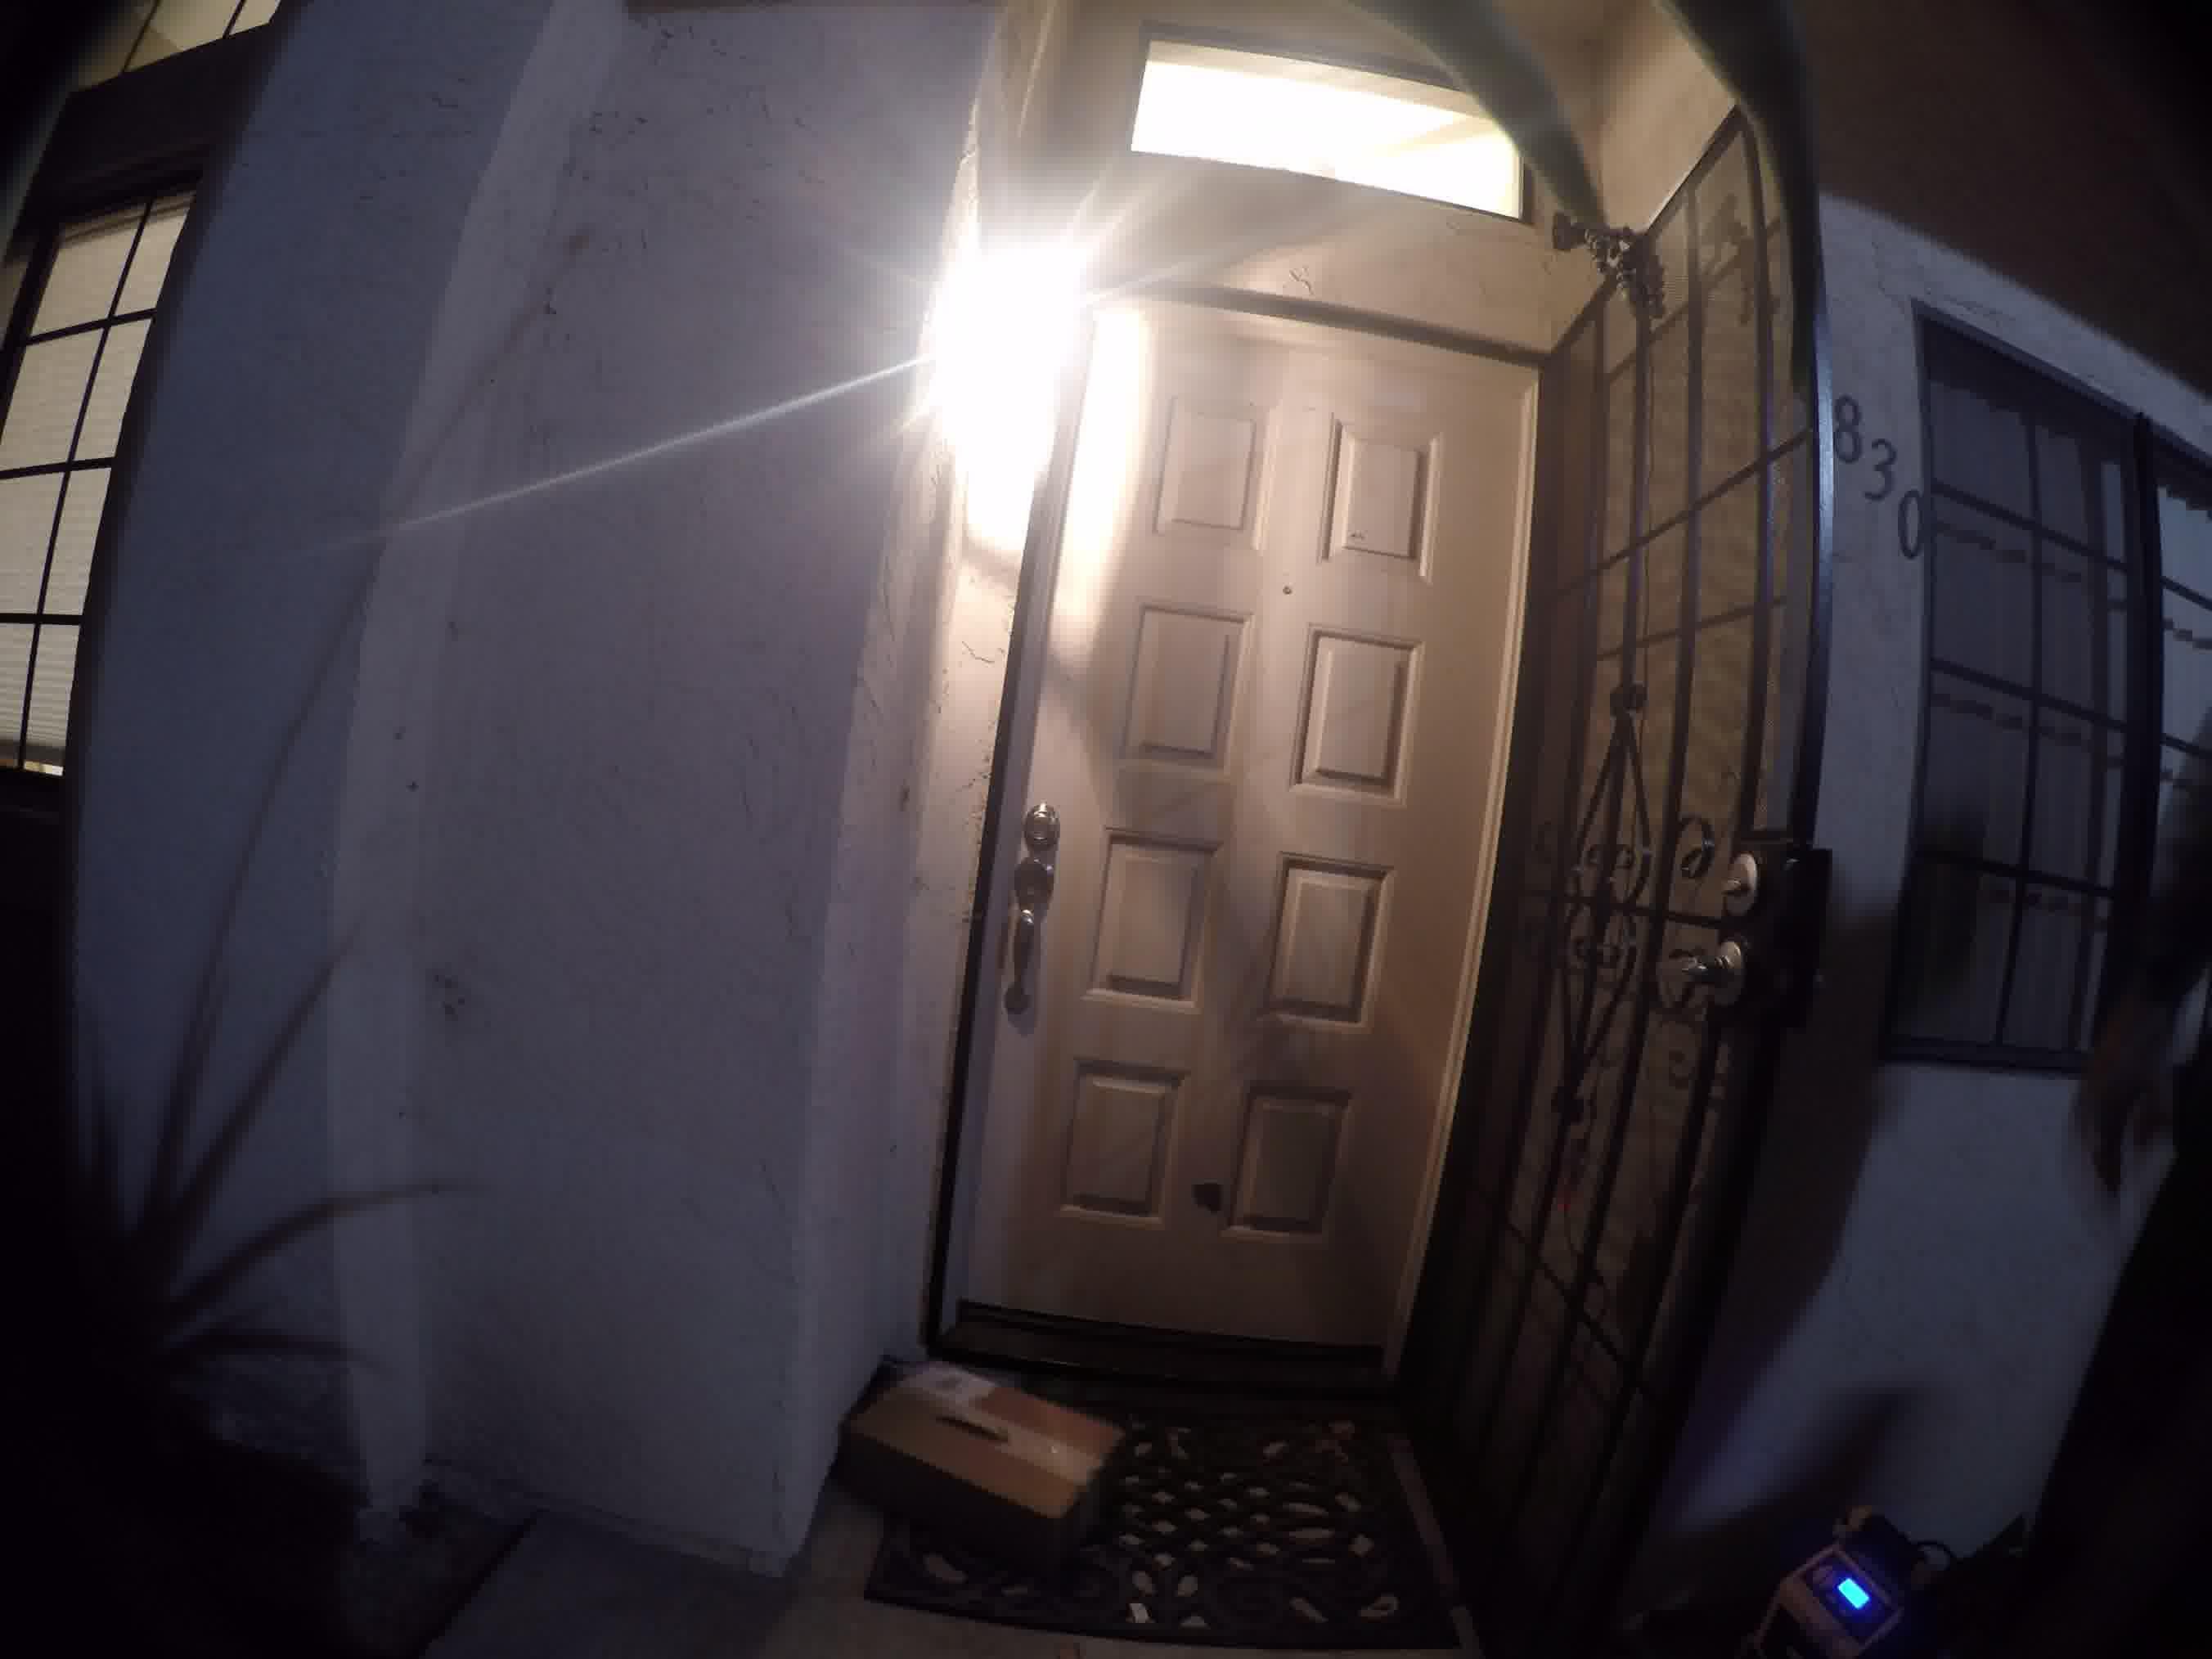box: (850, 1335, 1143, 1546)
